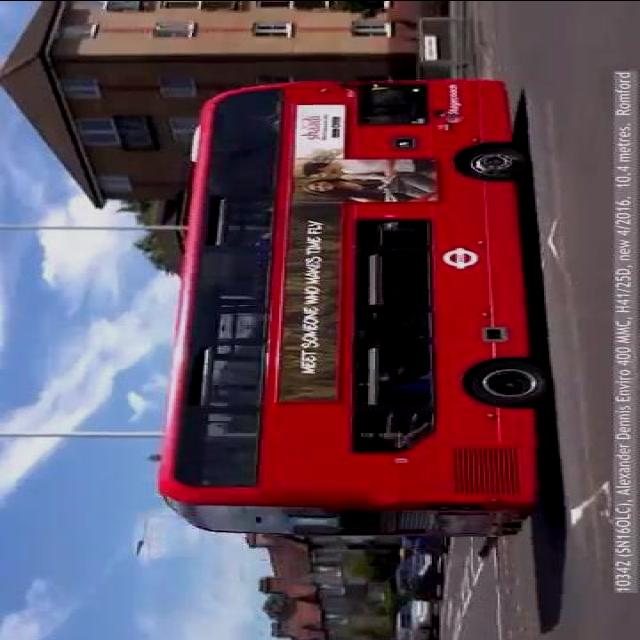bus: (161, 80, 559, 538)
